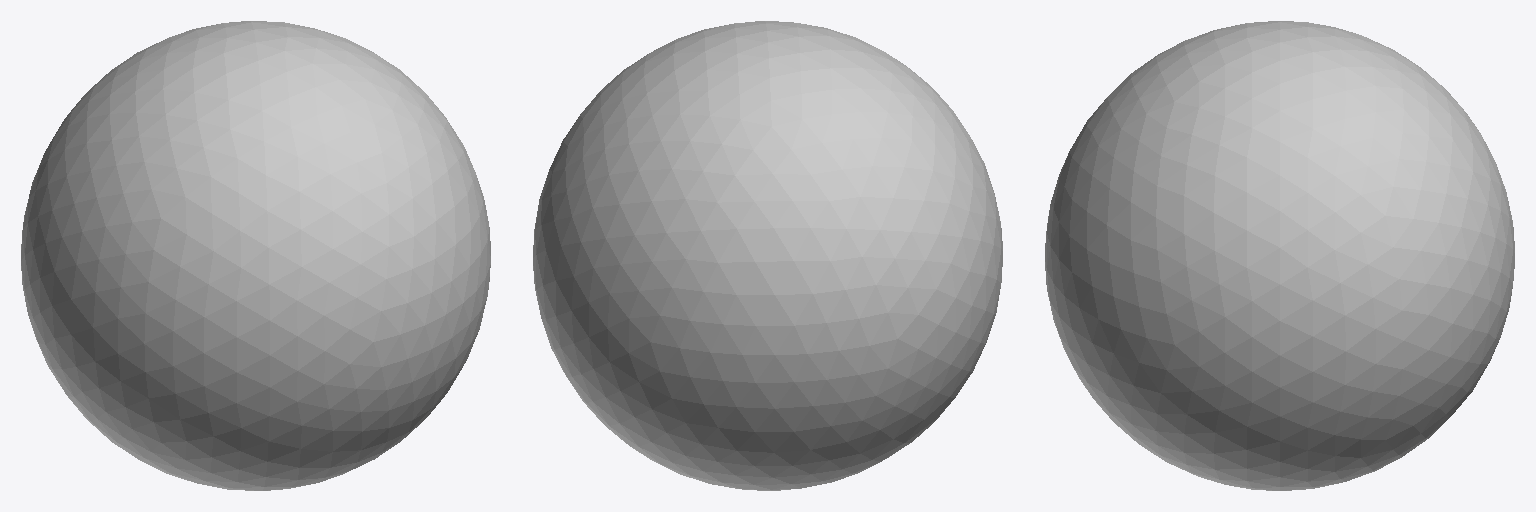
The model's file is SphereDetailed.obj.
3 renders of one model, left to right at view 1: azimuth 30°, elevation 25°; view 2: azimuth 150°, elevation 25°; view 3: azimuth 270°, elevation 25°, orthographic.
Size of the model in its own units: 2 by 2 by 2.